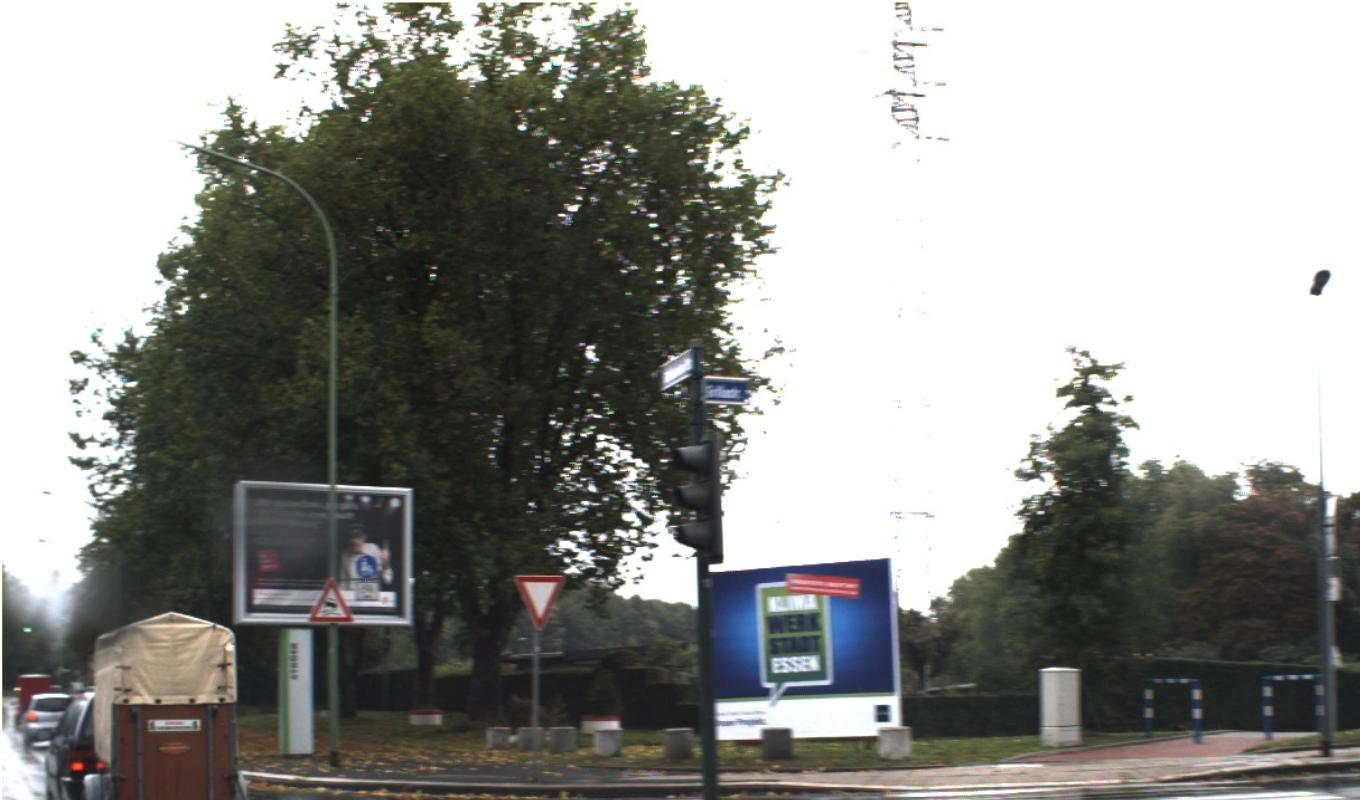slippery road: (306, 573, 567, 632)
